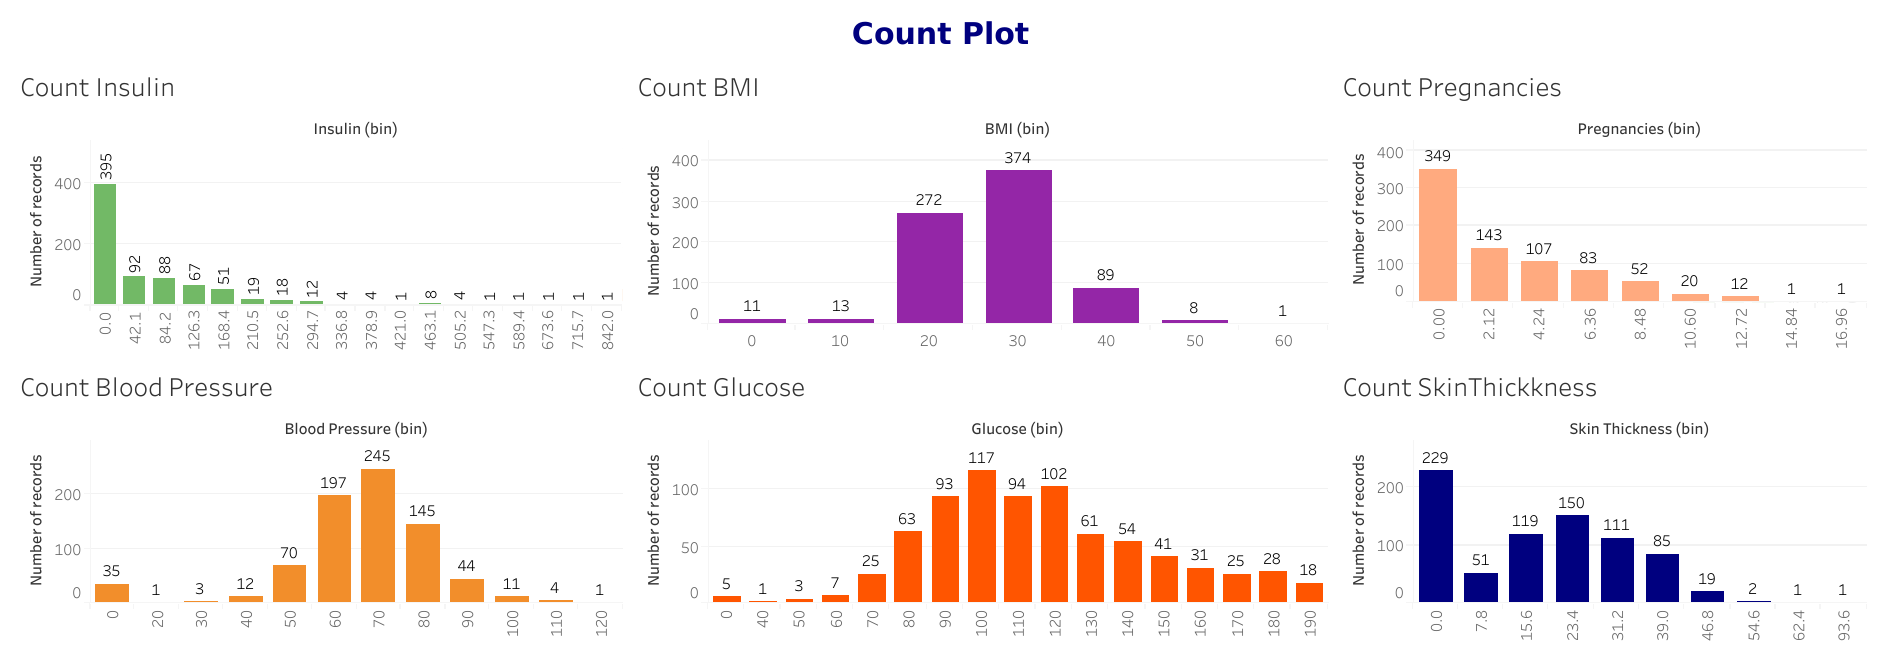

Layout of this report page (visuals, bound fields, positions):
{"tool":"tableau","page":{"name":"Dashboard 4","canvas":[1000,1000],"units":"permille","ordinal":1},"visuals":[{"type":"title","box":[4.8,9.3,990.3,44.1]},{"type":"worksheet","title":"Count Insulin","mark":"Automatic","rows":["Calculation_1006836023262789632"],"cols":["Insulin (bin)"],"box":[4.8,53.4,328.3,468.6]},{"type":"worksheet","title":"Count BMI","mark":"Bar","rows":["Calculation_1006836023262789632"],"cols":["BMI (bin)"],"box":[333.1,53.4,375.4,468.6]},{"type":"worksheet","title":"Count Pregnancies","mark":"Automatic","rows":["Calculation_1006836023262789632"],"cols":["Pregnancies (bin)"],"box":[708.5,53.4,286.7,468.6]},{"type":"worksheet","title":"Count Blood Pressure","mark":"Automatic","rows":["Calculation_1006836023262789632"],"cols":["Blood Pressure (bin)"],"box":[4.8,522,328.3,468.7]},{"type":"worksheet","title":"Count Glucose","mark":"Automatic","rows":["Calculation_1006836023262789632"],"cols":["Glucose (bin)"],"box":[333.1,522,375.4,468.7]},{"type":"worksheet","title":"Count SkinThickkness","mark":"Automatic","rows":["Calculation_1006836023262789632"],"cols":["Skin Thickness (bin)"],"box":[708.5,522,286.7,468.7]}]}

Visuals, with their boxes on the dashboard's canvas, which has no fixed pixel size, in thousandths of its width and height (x1, y1, x2, y2). These are canvas units, not pixel positions in the 1880x666 screenshot, which may show the page scaled, cropped or inside an application window:
title: {"left": 5, "top": 9, "right": 995, "bottom": 53}
"Count Insulin" worksheet: {"left": 5, "top": 53, "right": 333, "bottom": 522}
"Count BMI" worksheet (Bar marks): {"left": 333, "top": 53, "right": 708, "bottom": 522}
"Count Pregnancies" worksheet: {"left": 708, "top": 53, "right": 995, "bottom": 522}
"Count Blood Pressure" worksheet: {"left": 5, "top": 522, "right": 333, "bottom": 991}
"Count Glucose" worksheet: {"left": 333, "top": 522, "right": 708, "bottom": 991}
"Count SkinThickkness" worksheet: {"left": 708, "top": 522, "right": 995, "bottom": 991}
